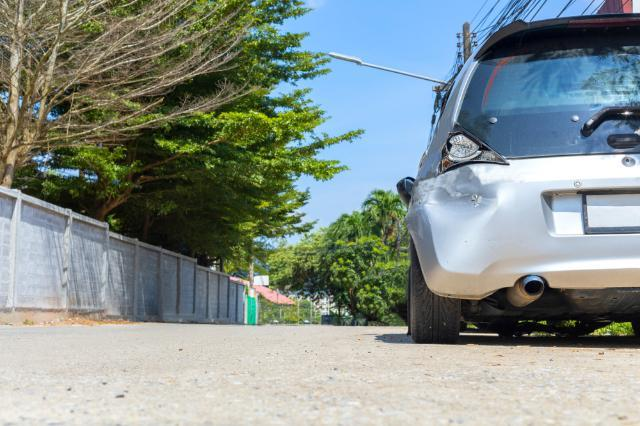dent: (421, 169, 499, 262)
lamp broken: (441, 131, 505, 171)
